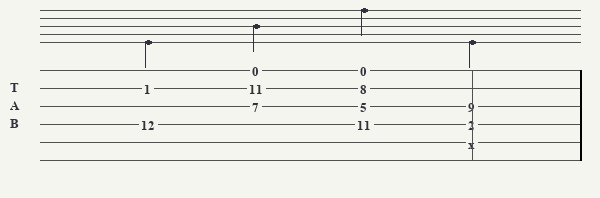0: (252, 64, 263, 77), (360, 64, 371, 77)
1: (144, 82, 155, 95)
11: (249, 82, 267, 95), (357, 118, 375, 131)
12: (141, 118, 159, 131)
2: (468, 118, 479, 131)
5: (360, 100, 371, 113)
7: (252, 100, 263, 113)
8: (360, 82, 371, 95)
9: (468, 100, 479, 113)
x: (468, 137, 479, 147)
